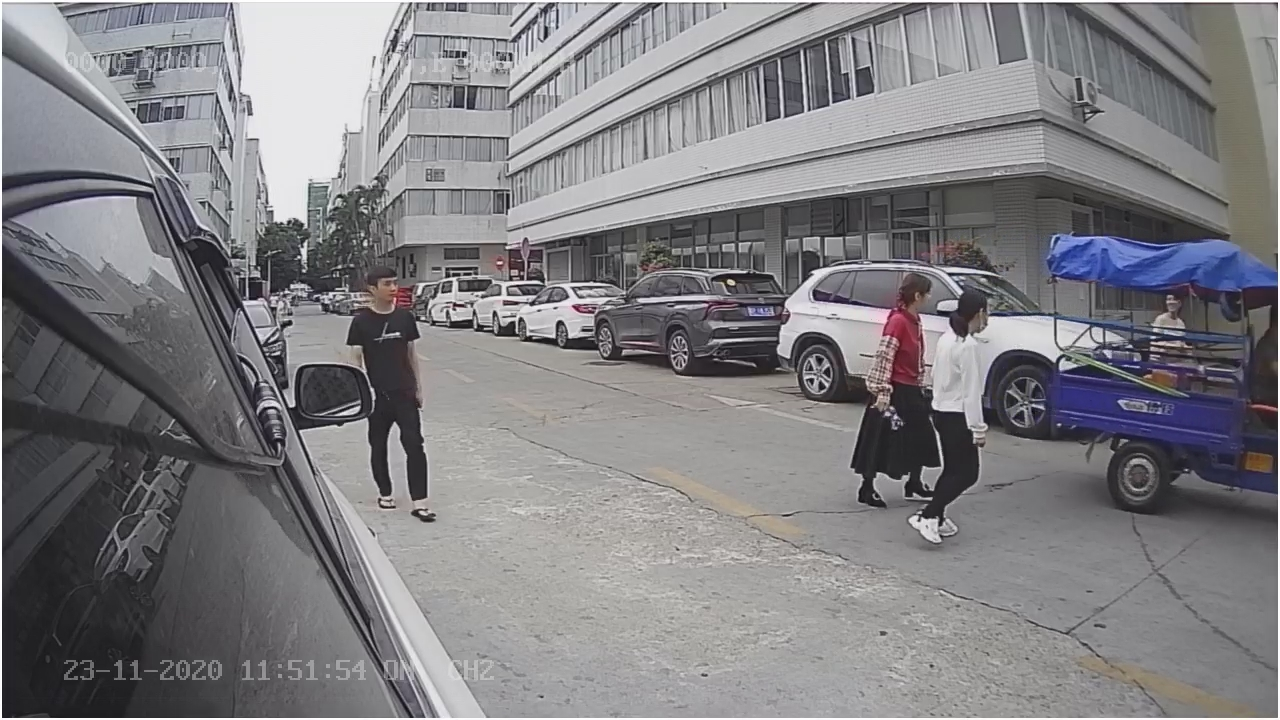person: (849, 263, 937, 510)
